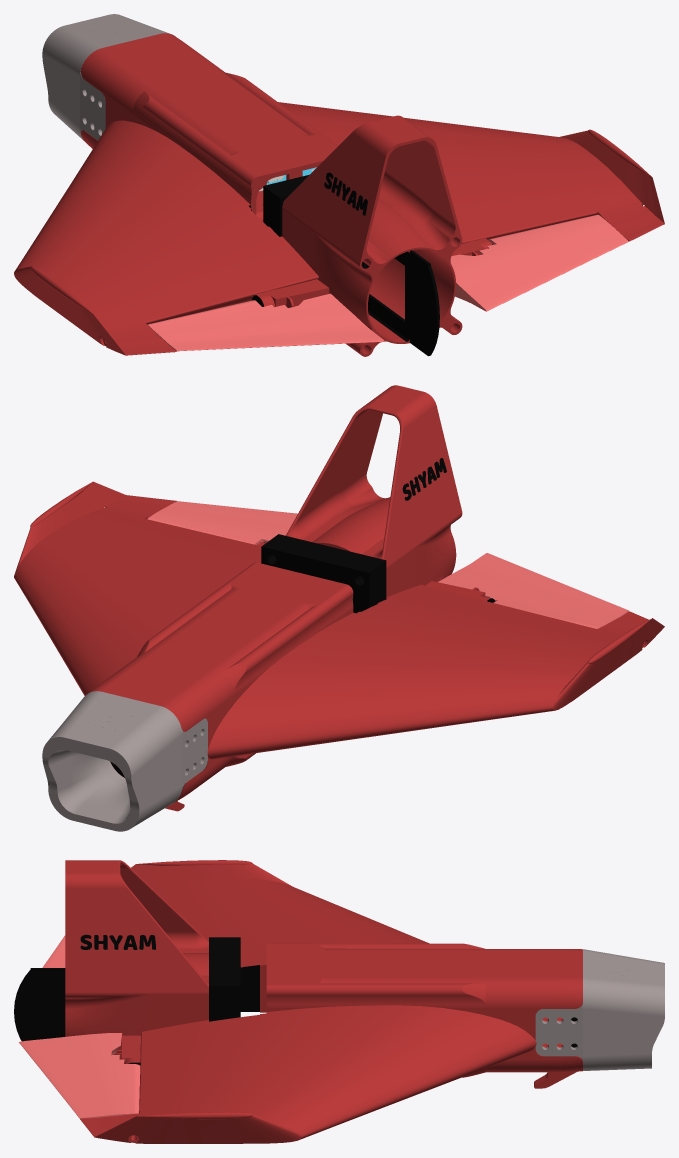
The model's file is guidedplane.glb.
The picture shows the model from 3 angles, top to bottom: view 1: azimuth 30°, elevation 25°; view 2: azimuth 150°, elevation 25°; view 3: azimuth 270°, elevation 25°; orthographic projection. The views are drawn at different scales.
Visible parts, largest first — view 1: youth_union_guided_plane-1, left_wingy-1, left_wingy-2, RoboMaster_Dart_Trigger_Device-1, 24V_fan-1; view 2: youth_union_guided_plane-1, RoboMaster_Dart_Trigger_Device-1, left_wingy-2, 24V_fan-1, left_wingy-1; view 3: youth_union_guided_plane-1, RoboMaster_Dart_Trigger_Device-1, left_wingy-1, 24V_fan-1.
Part boxes in pixels (x1,y1,x2,y2): youth_union_guided_plane-1: [14, 33, 664, 356]; left_wingy-1: [450, 214, 628, 311]; left_wingy-2: [147, 293, 385, 351]; RoboMaster_Dart_Trigger_Device-1: [42, 14, 175, 140]; 24V_fan-1: [263, 174, 309, 236]; youth_union_guided_plane-1: [14, 385, 664, 811]; RoboMaster_Dart_Trigger_Device-1: [42, 691, 207, 831]; left_wingy-2: [438, 553, 628, 628]; 24V_fan-1: [261, 534, 386, 613]; left_wingy-1: [147, 501, 297, 544]; youth_union_guided_plane-1: [14, 860, 582, 1143]; RoboMaster_Dart_Trigger_Device-1: [535, 949, 664, 1070]; left_wingy-1: [19, 1033, 140, 1118]; 24V_fan-1: [209, 937, 240, 1021].
Size of the model in its own units: 0.2097 by 0.0802 by 0.2263.
